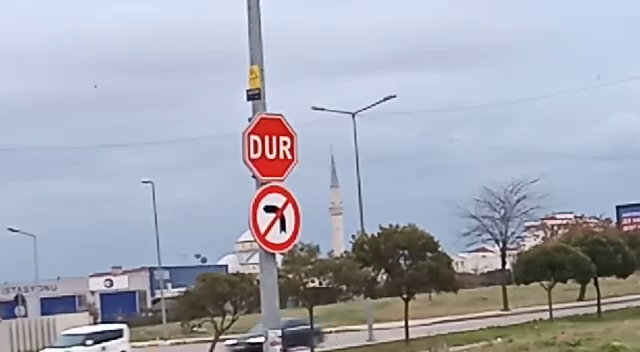no_left: (246, 182, 305, 256)
stop: (240, 108, 301, 183)
